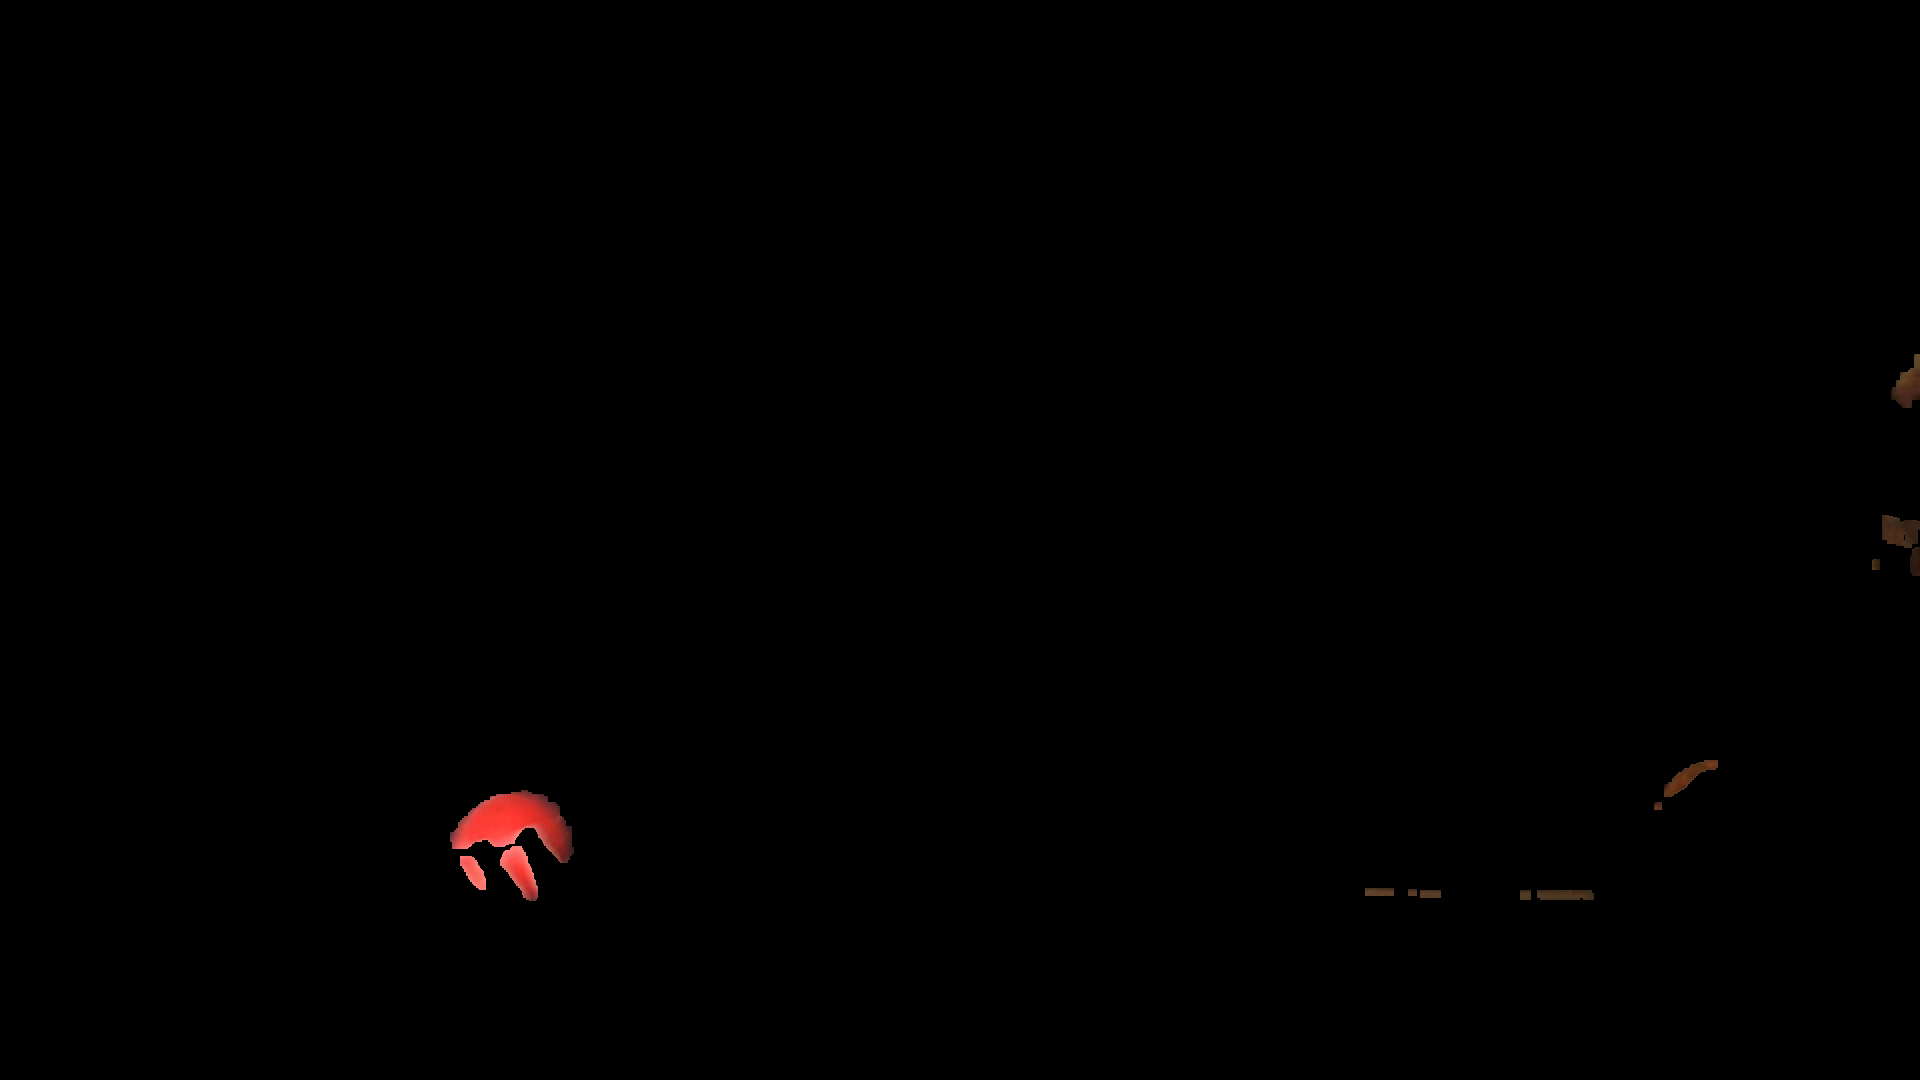Ball: (446, 794, 572, 909)
